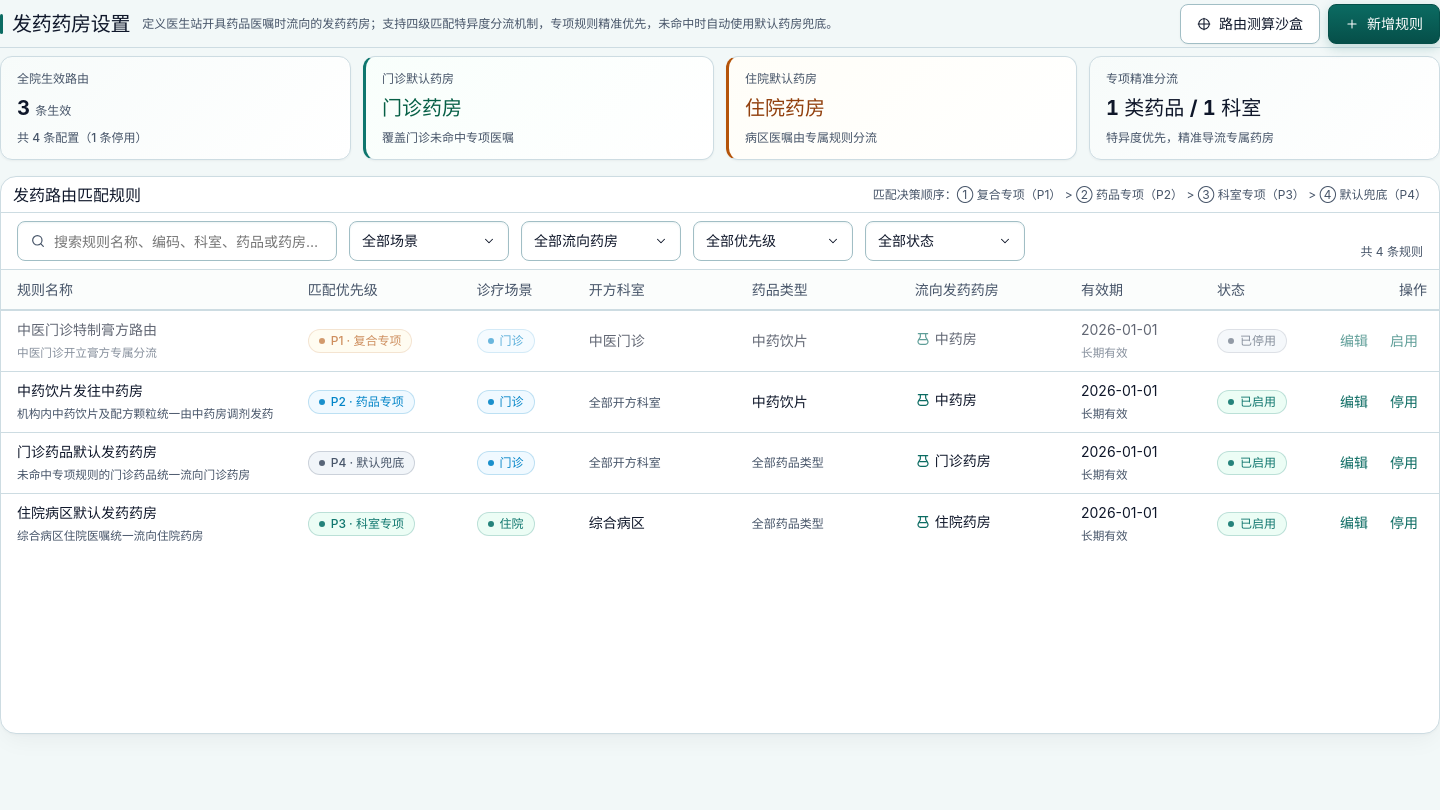
DispenseRouteSettings › opens create modal with live priority preview guidance
The width and height of the screenshot is (1440, 810).
Click the button "新增规则" at [1384, 24], box [1328,4,1439,44]
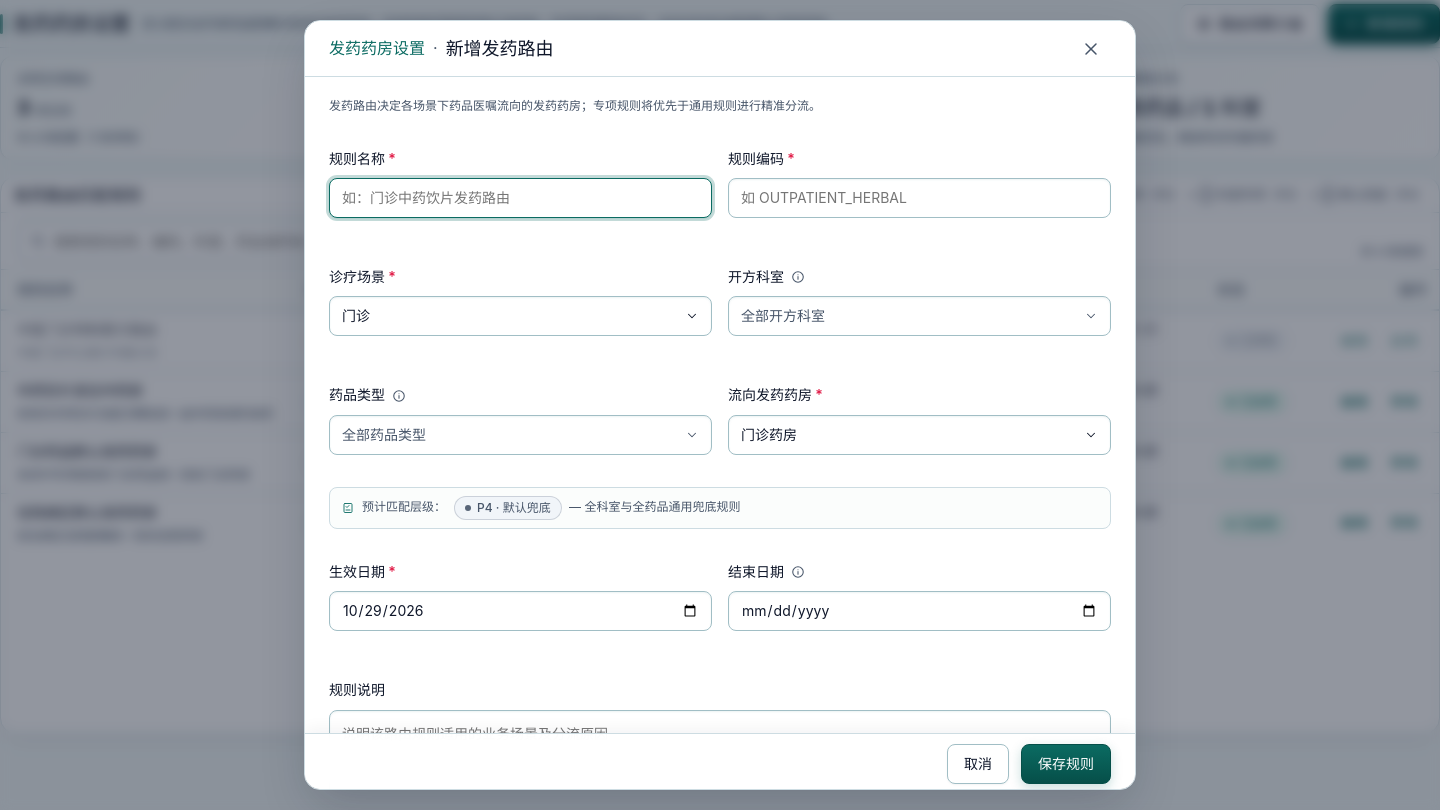
Check: the text "P4 · 默认兜底" in the row of "门诊药品默认发药药房" is shown, box [308,451,415,475]
Check: the dialog "新增发药路由" is shown, box [304,20,1136,790]
Check: the text "预计匹配层级： P4 · 默认兜底 — 全科室与全药品通用兜底规则" is shown, box [362,496,740,520]
